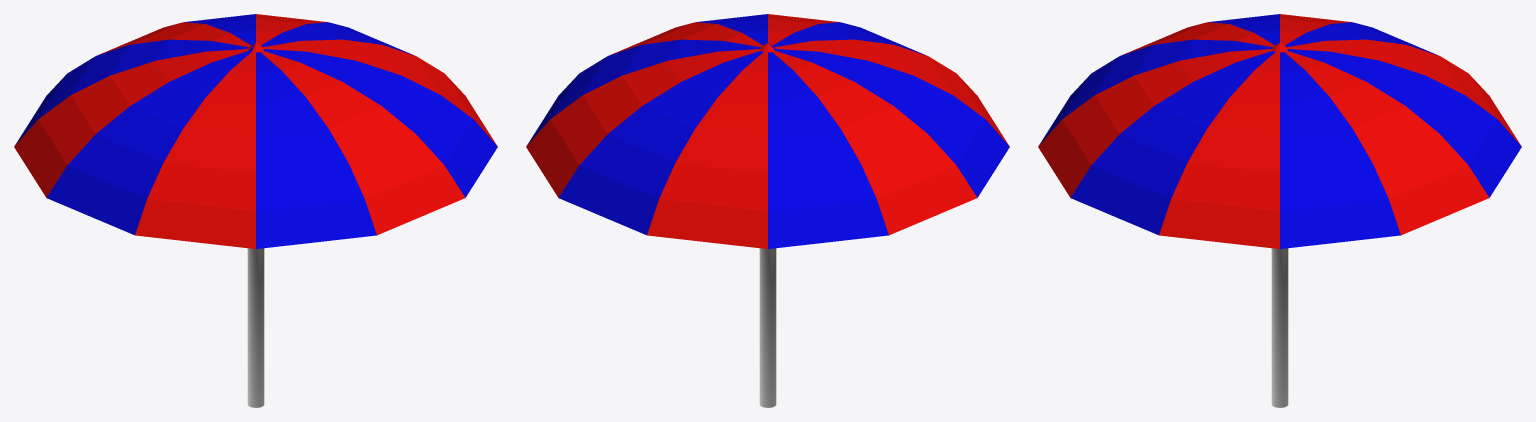
The model's file is Sombrilla3.fbx.
3 views of the same model, side by side, from view 1: azimuth 30°, elevation 25°; view 2: azimuth 150°, elevation 25°; view 3: azimuth 270°, elevation 25° (orthographic).
Parts seen in each view (by area): view 1: Sombrilla.002, Palo.002; view 2: Sombrilla.002, Palo.002; view 3: Sombrilla.002, Palo.002.
Boxes of the visible parts, x1,y1,x2,y2 form: Sombrilla.002: (14,14,497,248); Palo.002: (247,248,264,407); Sombrilla.002: (526,14,1009,248); Palo.002: (759,248,776,407); Sombrilla.002: (1038,14,1521,248); Palo.002: (1271,248,1288,407).
Bounding box in the file's own units: 276 × 227 × 276.
